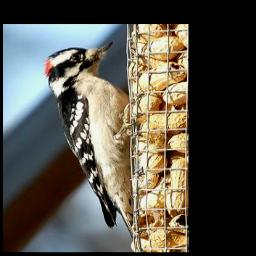Woodpecker: (43, 42, 139, 236)
